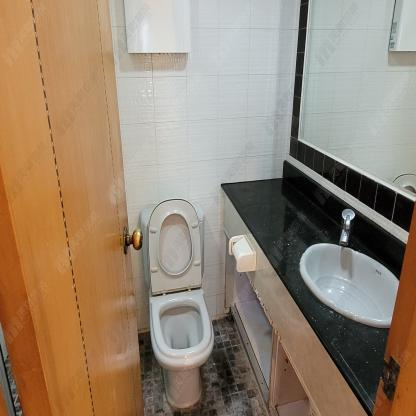Toilet: (140, 199, 213, 408)
Toilet Sink: (286, 201, 406, 342)
